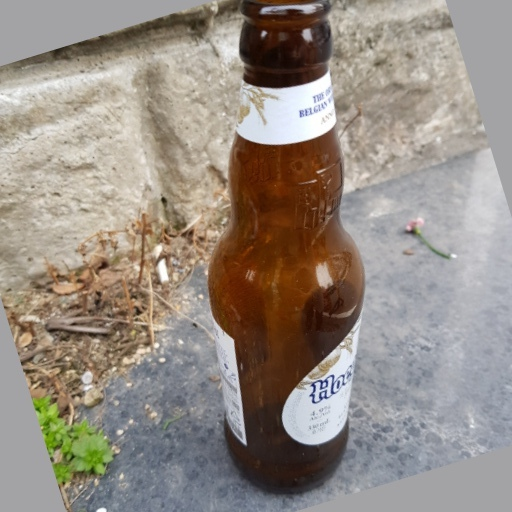Glass_1: (210, 1, 369, 492)
